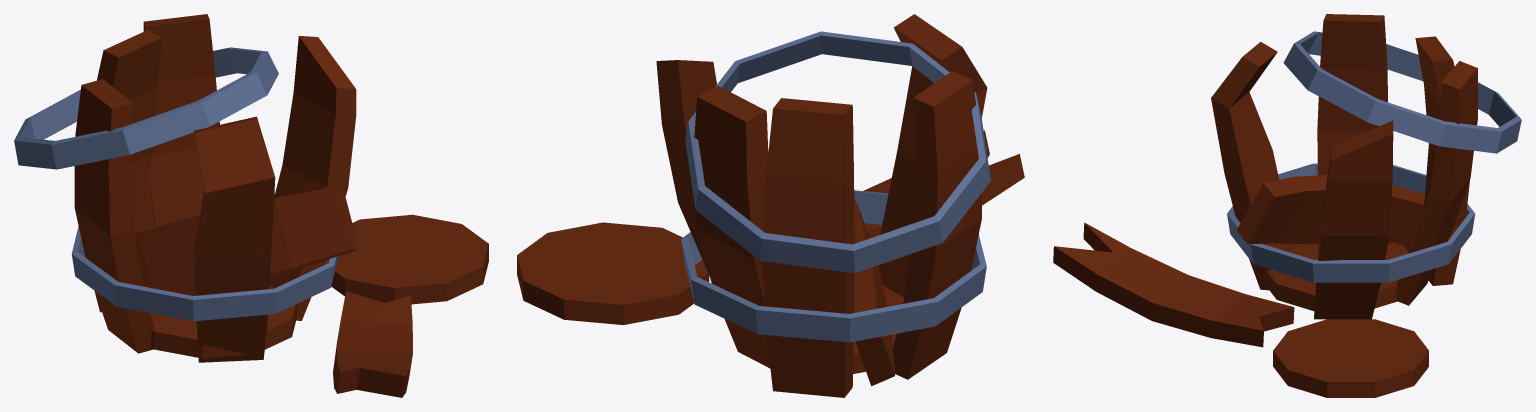
The model's file is brokenbarrel.obj.
3 renders of one model, left to right at view 1: azimuth 30°, elevation 25°; view 2: azimuth 150°, elevation 25°; view 3: azimuth 270°, elevation 25°, orthographic. The views are drawn at different scales.
Parts seen in each view (by area): view 1: barrel.018, barrel.023, barrel.016, barrel.019, barrel.022, barrel.024, barrel.021, barrel.025, barrel.017, barrel.020, barrel.015; view 2: barrel.020, barrel.016, barrel.023, barrel.019, barrel.021, barrel.017, barrel.018, barrel.022, barrel.024, barrel.025, barrel.015; view 3: barrel.025, barrel.022, barrel.023, barrel.016, barrel.018, barrel.017, barrel.019, barrel.024, barrel.021, barrel.020, barrel.015.
Boxes of the visible parts, x1,y1,x2,y2 form: barrel.018: (194, 116, 275, 362); barrel.023: (324, 214, 488, 304); barrel.016: (14, 47, 278, 169); barrel.019: (74, 79, 154, 353); barrel.022: (270, 36, 356, 320); barrel.024: (94, 186, 358, 312); barrel.021: (143, 14, 219, 227); barrel.025: (333, 291, 412, 397); barrel.017: (71, 193, 338, 321); barrel.020: (97, 30, 162, 233); barrel.015: (150, 286, 297, 358); barrel.020: (762, 98, 854, 397); barrel.016: (685, 31, 990, 273); barrel.023: (517, 222, 709, 324); barrel.019: (892, 71, 981, 379); barrel.021: (694, 86, 770, 368); barrel.017: (681, 190, 986, 342); barrel.018: (878, 14, 987, 297); barrel.022: (656, 60, 716, 275); barrel.024: (854, 199, 894, 386); barrel.025: (863, 130, 1024, 238); barrel.015: (853, 285, 904, 373); barrel.025: (1053, 222, 1294, 347); barrel.022: (1314, 120, 1393, 319); barrel.023: (1273, 319, 1428, 397); barrel.016: (1283, 31, 1521, 153); barrel.018: (1211, 42, 1296, 290); barrel.017: (1227, 163, 1474, 282); barrel.019: (1317, 14, 1387, 175); barrel.024: (1236, 175, 1424, 253); barrel.021: (1396, 61, 1477, 305); barrel.020: (1415, 36, 1469, 285); barrel.015: (1265, 242, 1409, 310).
Size of the model in its own units: 2.5 by 1.51 by 2.74.
